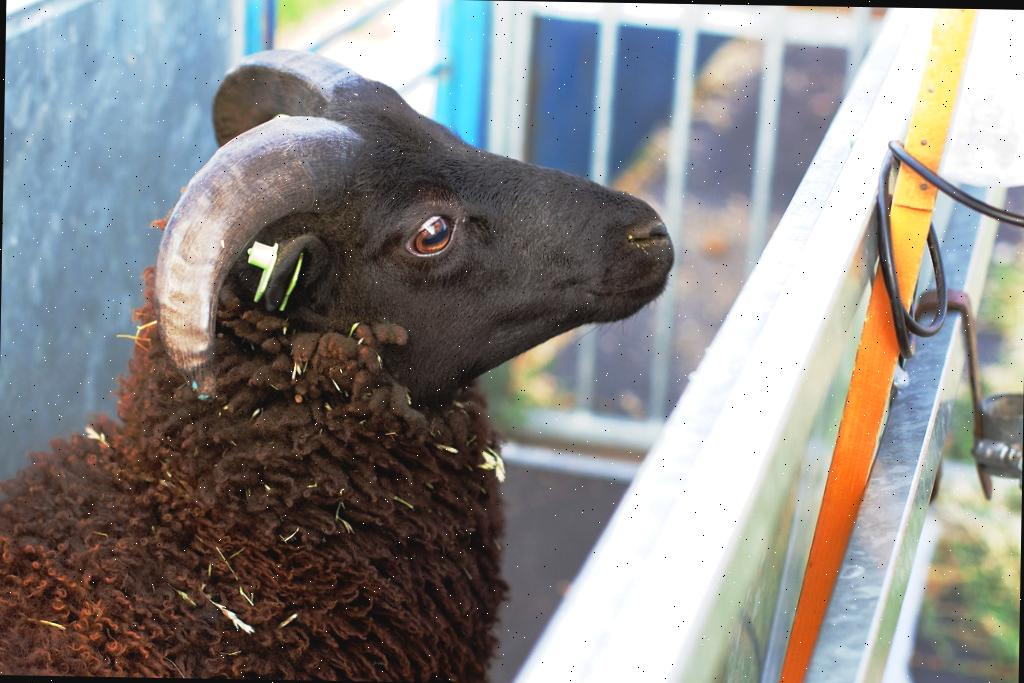Sheep: (0, 39, 676, 683)
